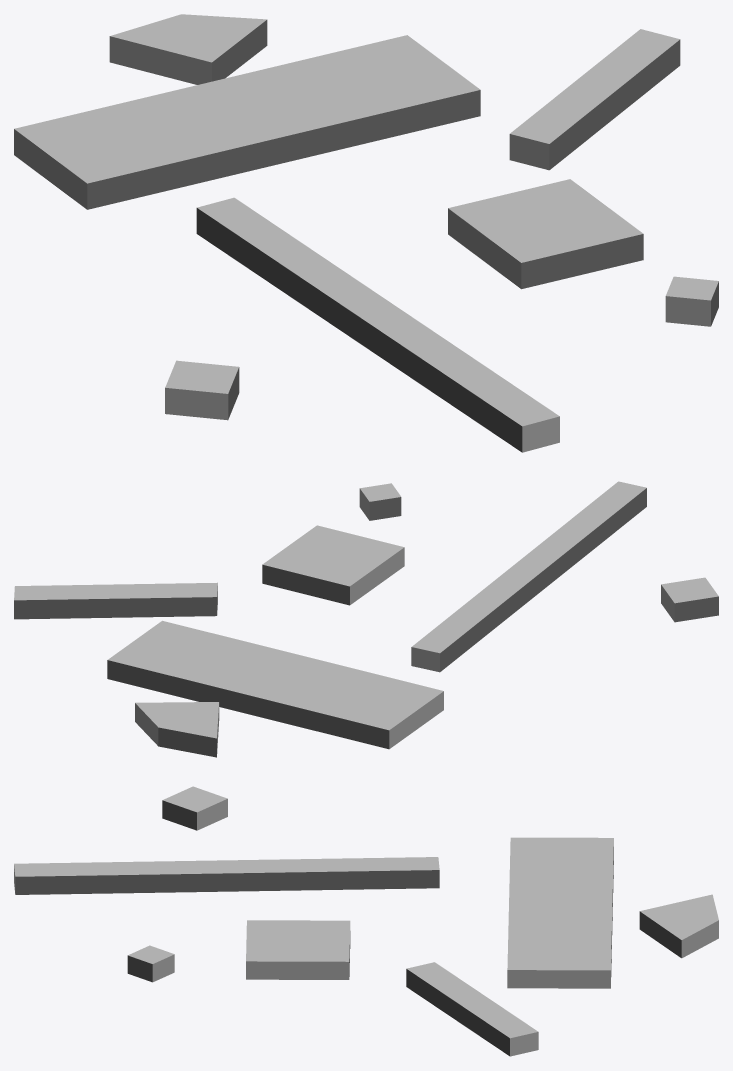
Rendered from rubble_01.fbx.
3 renders of one model, top to bottom at view 1: azimuth 30°, elevation 25°; view 2: azimuth 150°, elevation 25°; view 3: azimuth 270°, elevation 25°, orthographic. The views are drawn at different scales.
Parts seen in each view (by area): view 1: rubble_01; view 2: rubble_01; view 3: rubble_01.
Boxes of the visible parts, box(x1,y1,x2,y2) form: rubble_01: box(14, 14, 718, 452); rubble_01: box(14, 481, 718, 757); rubble_01: box(14, 786, 718, 1056).
Bounding box in the file's own units: 304 × 10.27 × 360.
